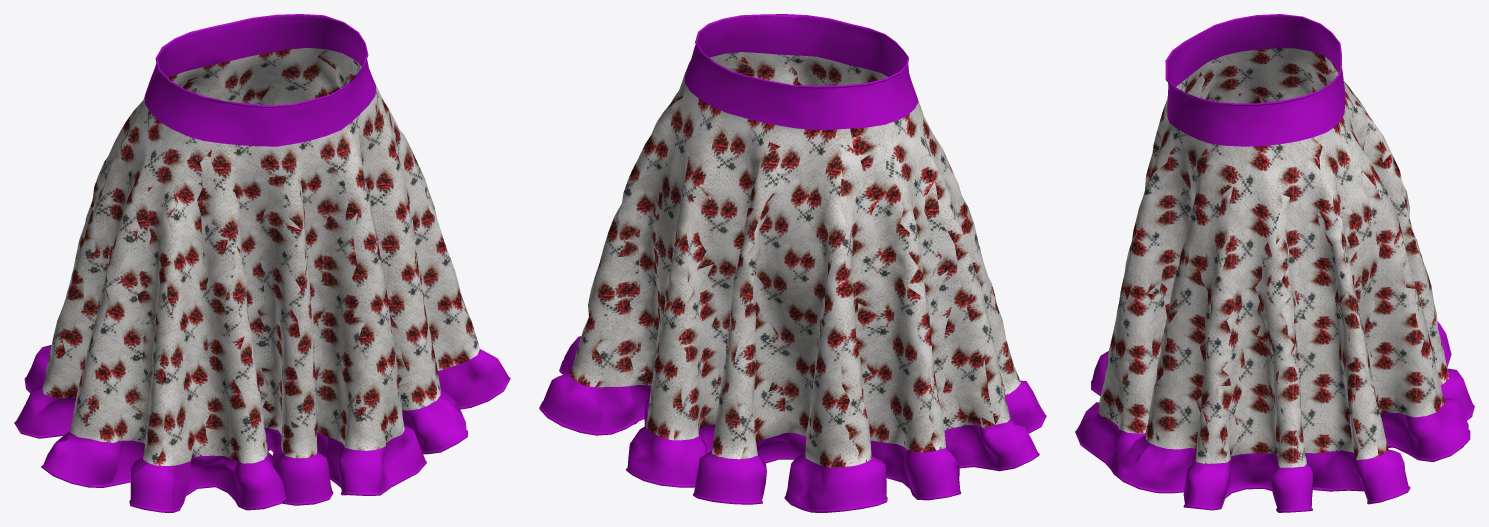
The model's file is Robe1-3.glb.
3 views of the same model, side by side, from view 1: azimuth 30°, elevation 25°; view 2: azimuth 150°, elevation 25°; view 3: azimuth 270°, elevation 25° (orthographic). The views are drawn at different scales.
Parts seen in each view (by area): view 1: Skirt.001; view 2: Skirt.001; view 3: Skirt.001.
Boxes of the visible parts, x1=… form: Skirt.001: x1=14, y1=14, x2=510, y2=512; Skirt.001: x1=539, y1=14, x2=1046, y2=512; Skirt.001: x1=1075, y1=14, x2=1474, y2=512.
Size of the model in its own units: 0.8204 by 0.6952 by 0.6475.
Materials: 2 (1 with a texture image).
